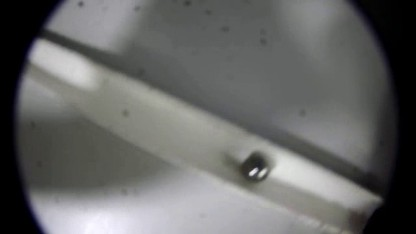gangzhu: (241, 151, 272, 182)
